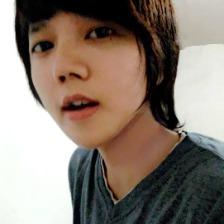Non hijab: (10, 0, 180, 136)
